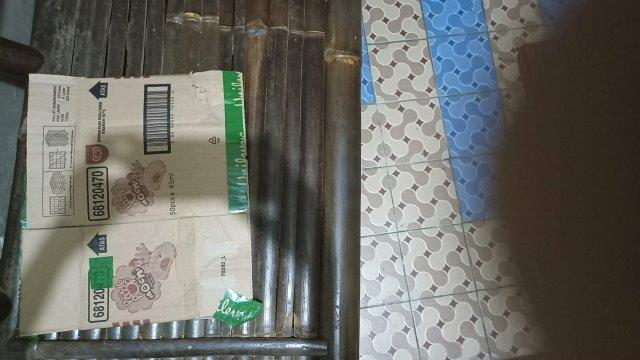kardus: (17, 72, 253, 336)
